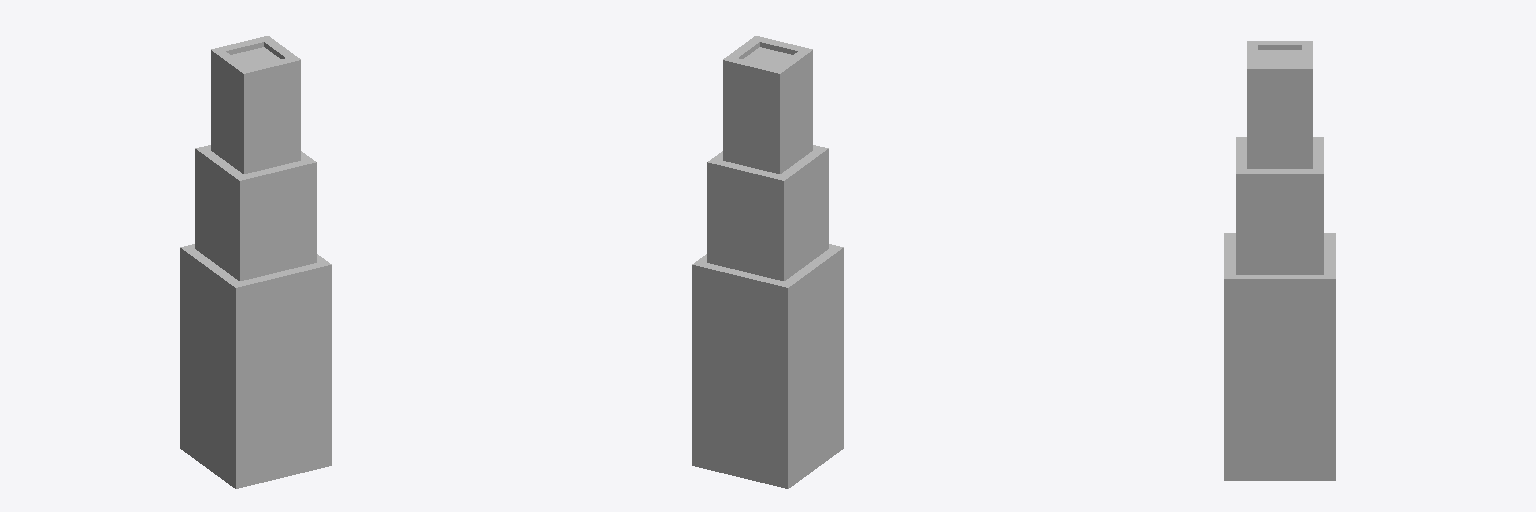
The model's file is low_buildingM.obj.
3 renders of one model, left to right at view 1: azimuth 30°, elevation 25°; view 2: azimuth 150°, elevation 25°; view 3: azimuth 270°, elevation 25°, orthographic.
Parts seen in each view (by area): view 1: low_buildingM; view 2: low_buildingM; view 3: low_buildingM.
Part boxes in pixels (x1,y1,x2,y2): low_buildingM: (180,36,331,488); low_buildingM: (692,36,843,488); low_buildingM: (1224,41,1335,480).
Size of the model in its own units: 0.5 by 2 by 0.5.